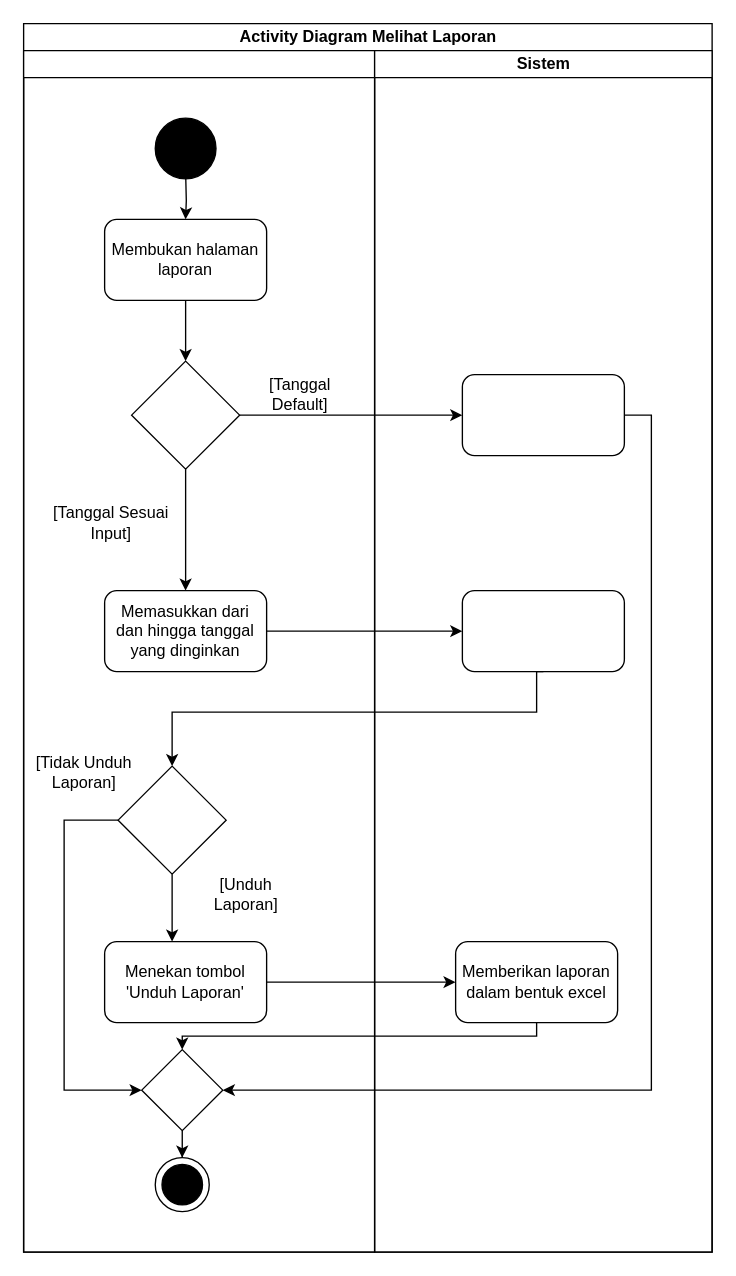
The diagram is 736 pixels wide and 1276 high, and some of its shapes have lost their labels. Each missing label, with the box of its shape:
Menampilkan laporan default tanggal: (461, 373, 624, 456)
Menampilkan laporan sesuai dengan tanggal: (461, 589, 624, 672)
Seluruh Pengguna: (22, 49, 375, 1252)
